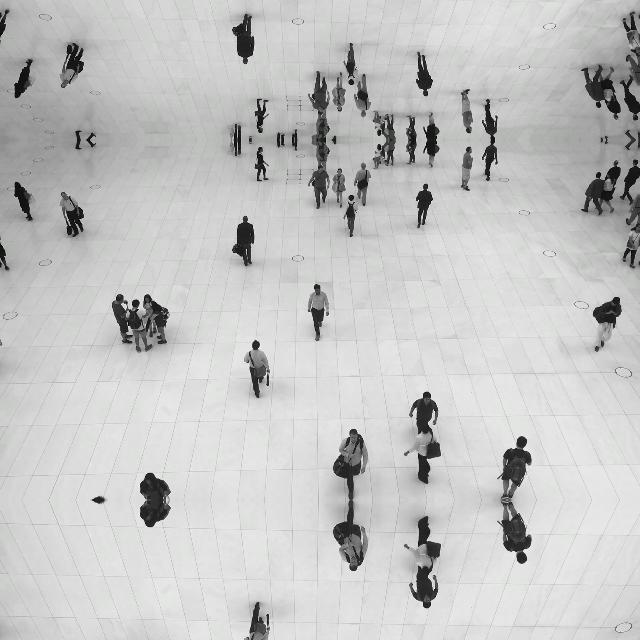person: (338, 428, 369, 500), (338, 500, 369, 572), (500, 436, 532, 500), (500, 500, 532, 564), (404, 426, 436, 484), (404, 516, 436, 574), (592, 296, 622, 352), (243, 340, 270, 398), (126, 300, 154, 352), (409, 392, 439, 436), (409, 564, 439, 608), (307, 284, 329, 340), (580, 172, 606, 216), (580, 64, 606, 108), (60, 191, 84, 237), (60, 43, 84, 89), (111, 294, 133, 344), (243, 602, 270, 640), (308, 165, 330, 209), (308, 71, 330, 115), (619, 159, 640, 205), (619, 75, 640, 121), (237, 216, 256, 266), (237, 14, 256, 64), (150, 301, 170, 345), (140, 472, 170, 500), (140, 500, 170, 528), (622, 223, 640, 269), (622, 11, 640, 57), (14, 181, 34, 221), (14, 59, 34, 99), (354, 162, 372, 206), (415, 184, 433, 228), (354, 74, 372, 118), (415, 52, 433, 96), (482, 140, 498, 182), (482, 98, 498, 140), (143, 294, 157, 338), (344, 42, 358, 86), (344, 195, 358, 238), (461, 146, 474, 192), (461, 88, 474, 134), (602, 172, 616, 214), (602, 66, 616, 108), (254, 146, 270, 182), (254, 98, 270, 134), (332, 168, 346, 208), (332, 72, 346, 112), (605, 160, 621, 192), (605, 88, 621, 120), (314, 140, 331, 168), (424, 140, 441, 168), (314, 112, 331, 140), (424, 112, 441, 140), (625, 194, 640, 225), (625, 54, 640, 85), (372, 143, 386, 169), (383, 140, 397, 166), (372, 111, 386, 137), (383, 114, 397, 140), (0, 238, 10, 270), (0, 10, 10, 42), (406, 140, 418, 164), (406, 116, 418, 140), (75, 140, 97, 150), (75, 130, 97, 140), (625, 140, 640, 150), (625, 130, 640, 140), (234, 140, 242, 156), (234, 124, 242, 140), (292, 140, 298, 152), (292, 128, 298, 140), (277, 140, 285, 148), (91, 496, 107, 500), (277, 132, 285, 140), (91, 500, 107, 504), (600, 140, 608, 144), (600, 136, 608, 140), (248, 140, 252, 144), (248, 136, 252, 140)
